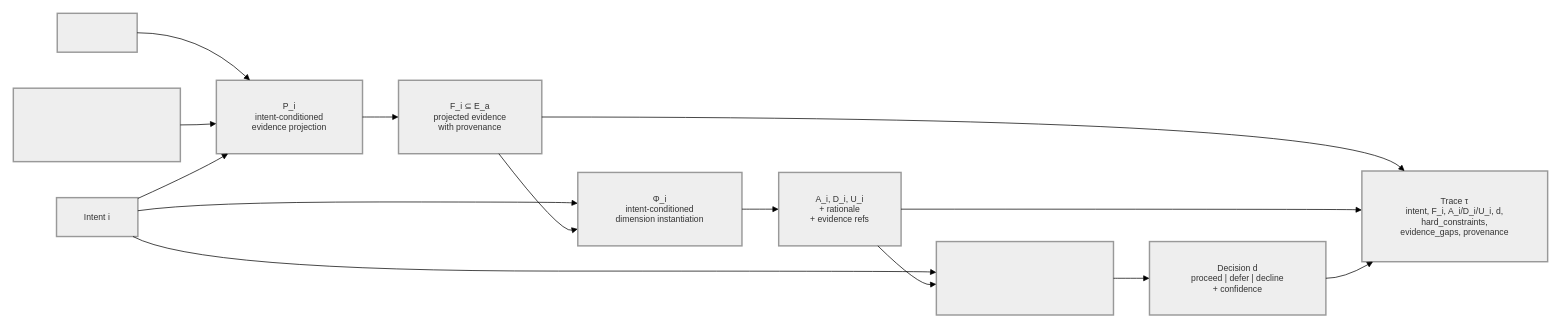
The diagram is 1560 pixels wide and 328 high, and some of its shapes have lost their labels. The centre of each missing label's shape, as x and y in pixels:
"Asset a" belongs at pixel 97 32.
"g_i operational aggregation (optional, intent-specific)" belongs at pixel 1024 277.
"Raw evidence E_a (market, on-chain, storage, social, oracles)" belongs at pixel 96 124.
